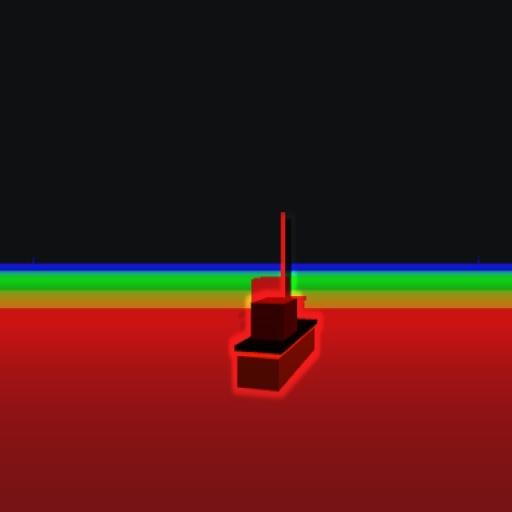vessel: (235, 232, 318, 397)
